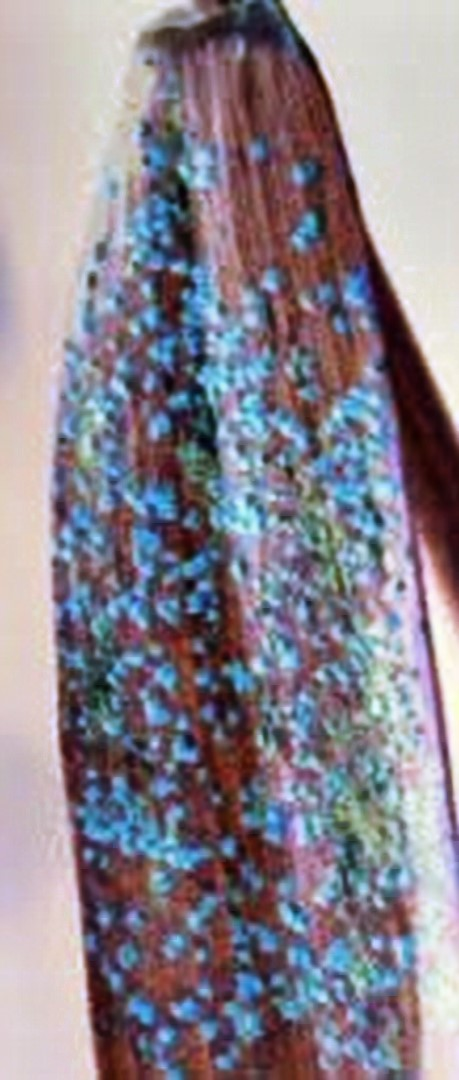Leaf Rust: (18, 166, 453, 997)
